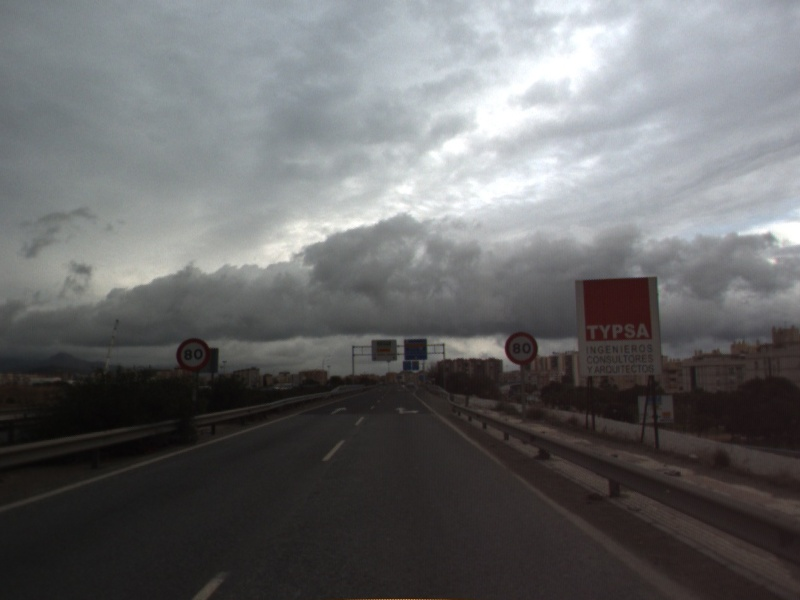STRAIGHT: (328, 405, 349, 417)
STRAIGHT_RIGHT: (393, 405, 421, 416)
